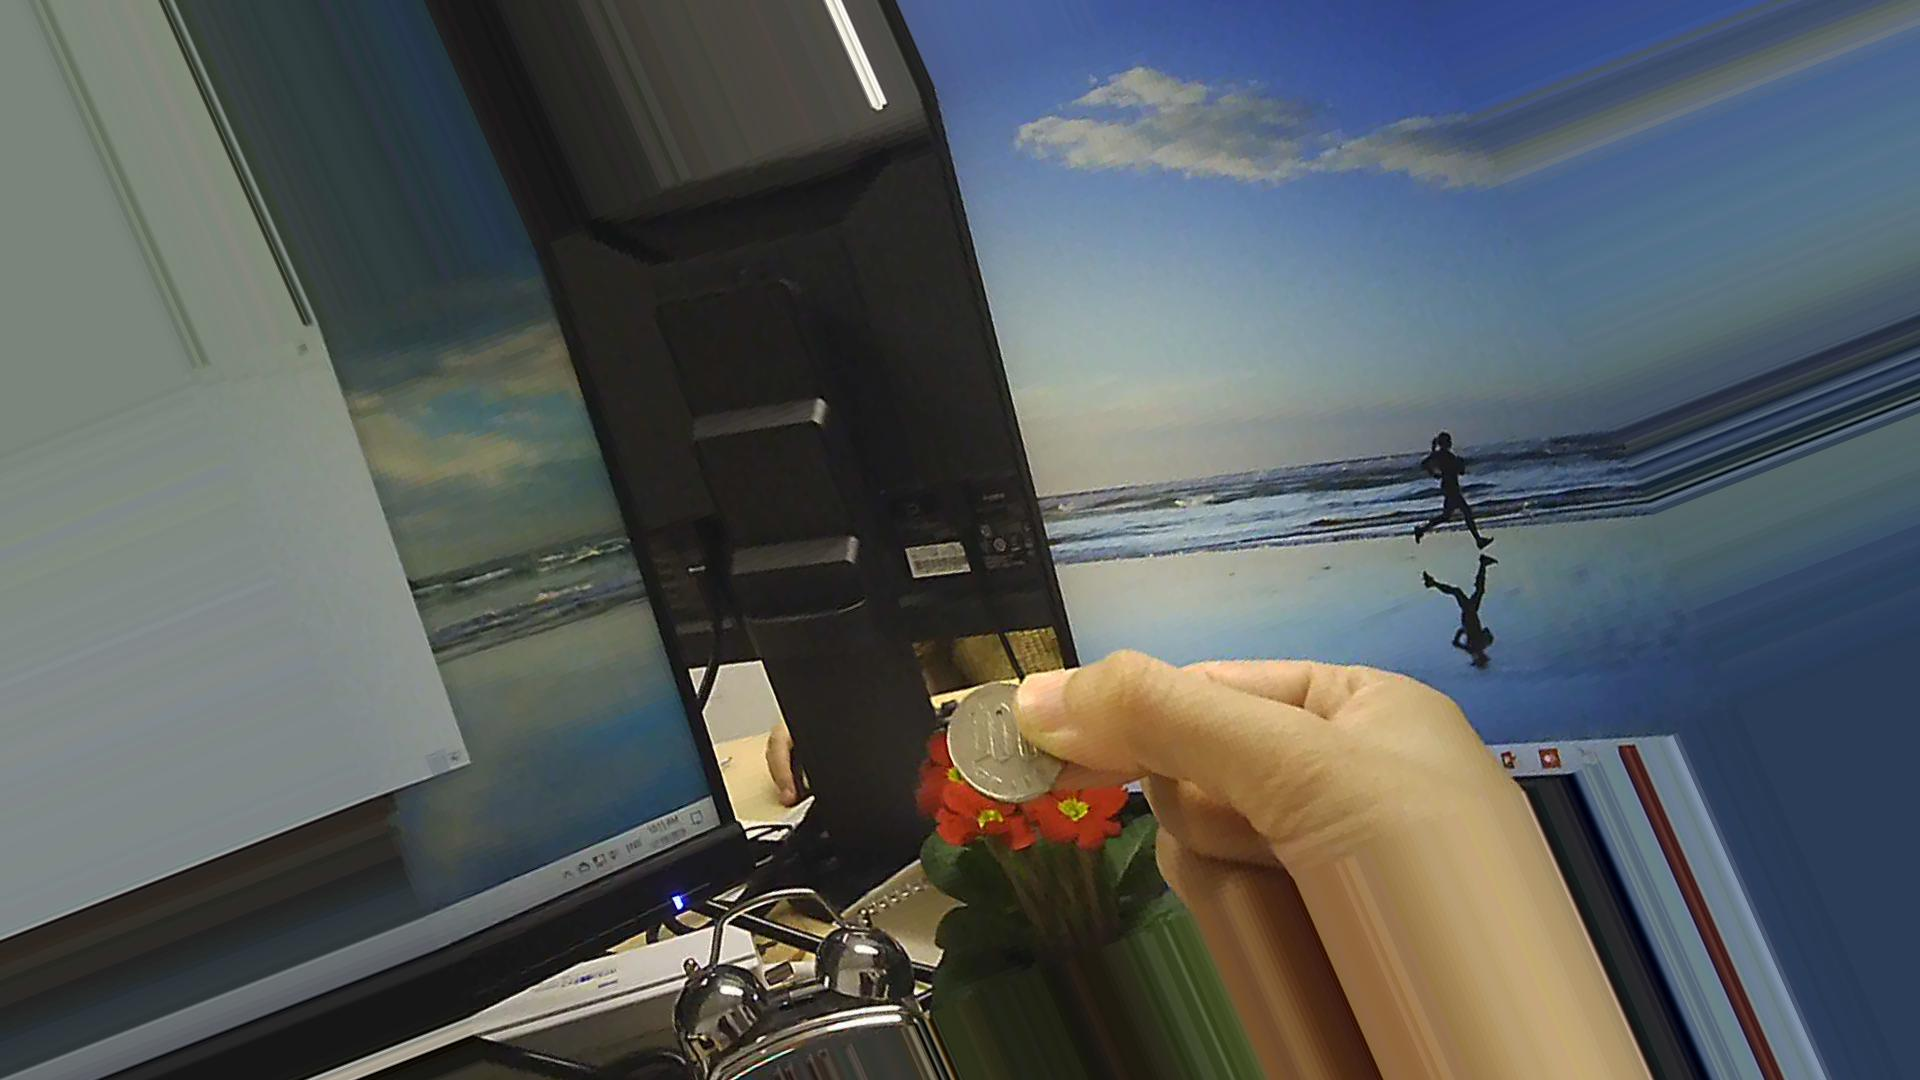100 Yen: (944, 679, 1064, 808)
